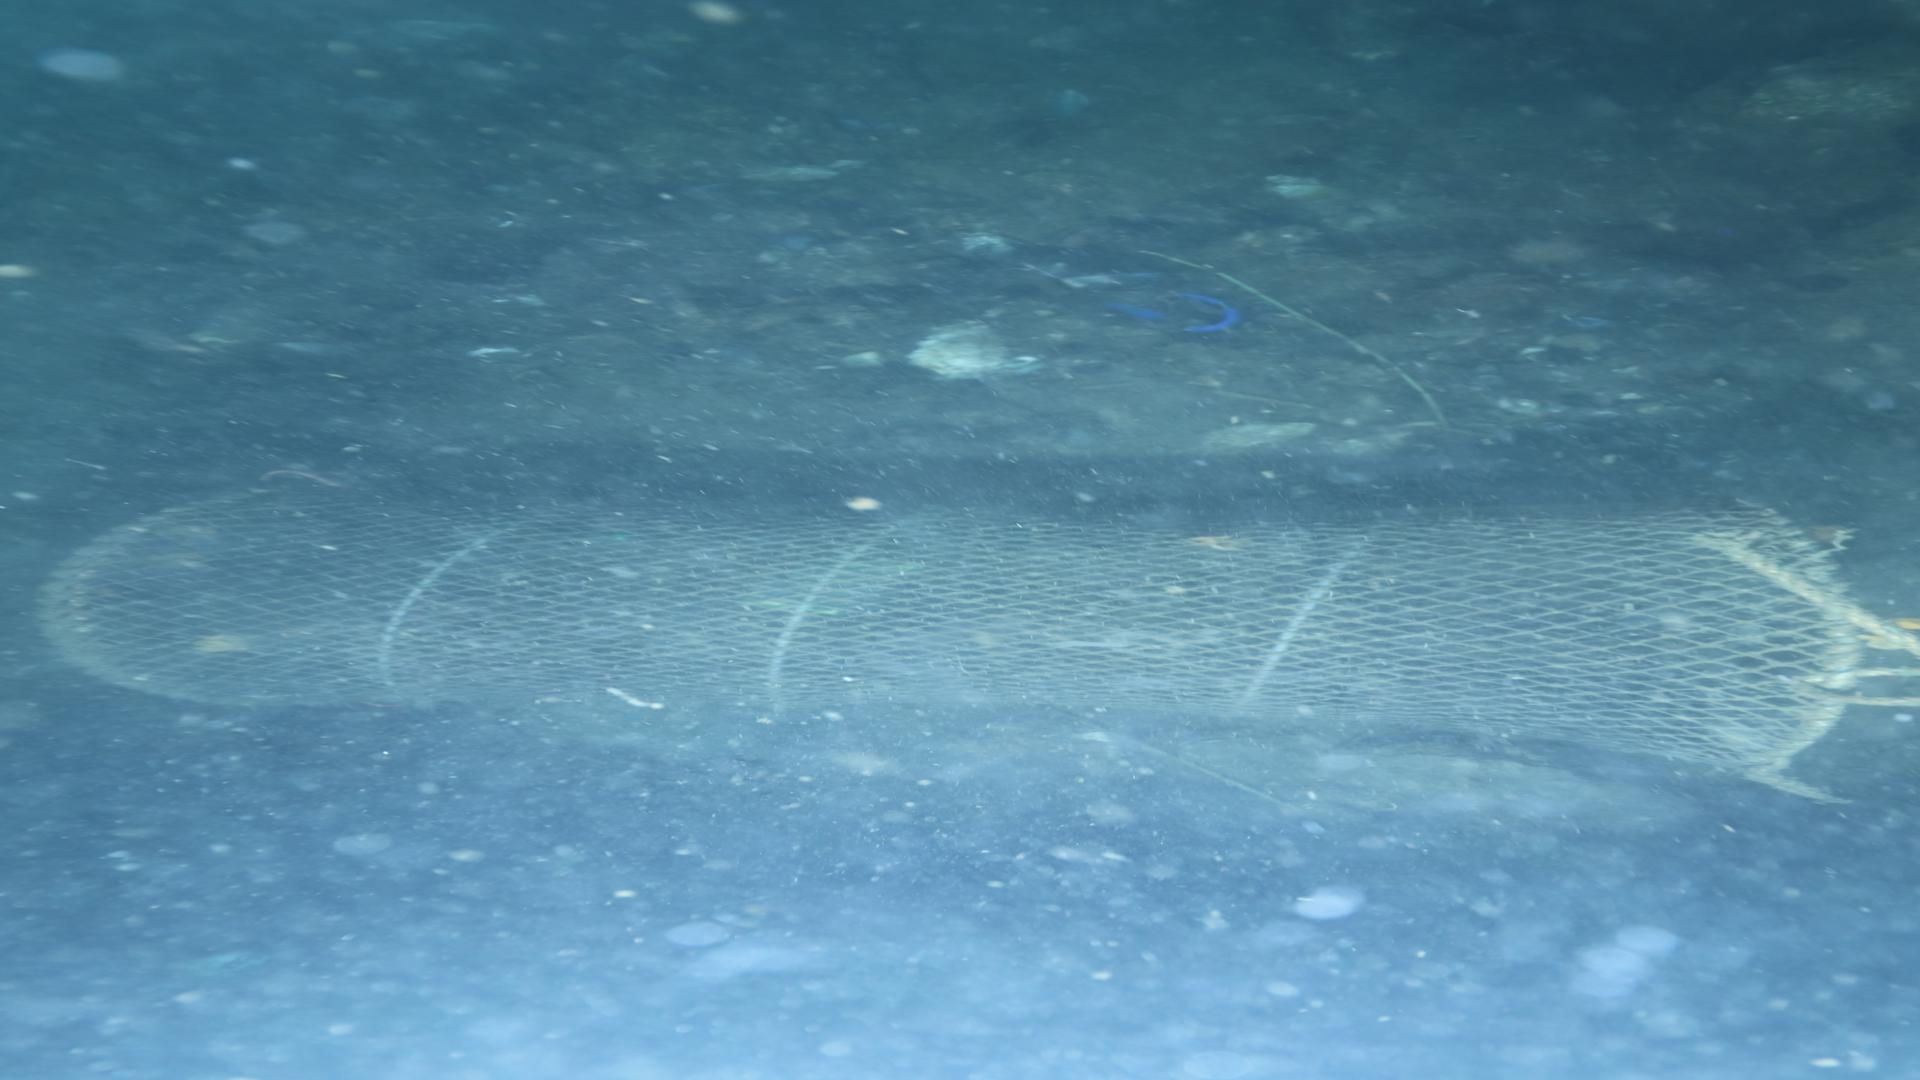rope: (1677, 527, 1920, 655)
spring fish trap: (40, 465, 1869, 778)
